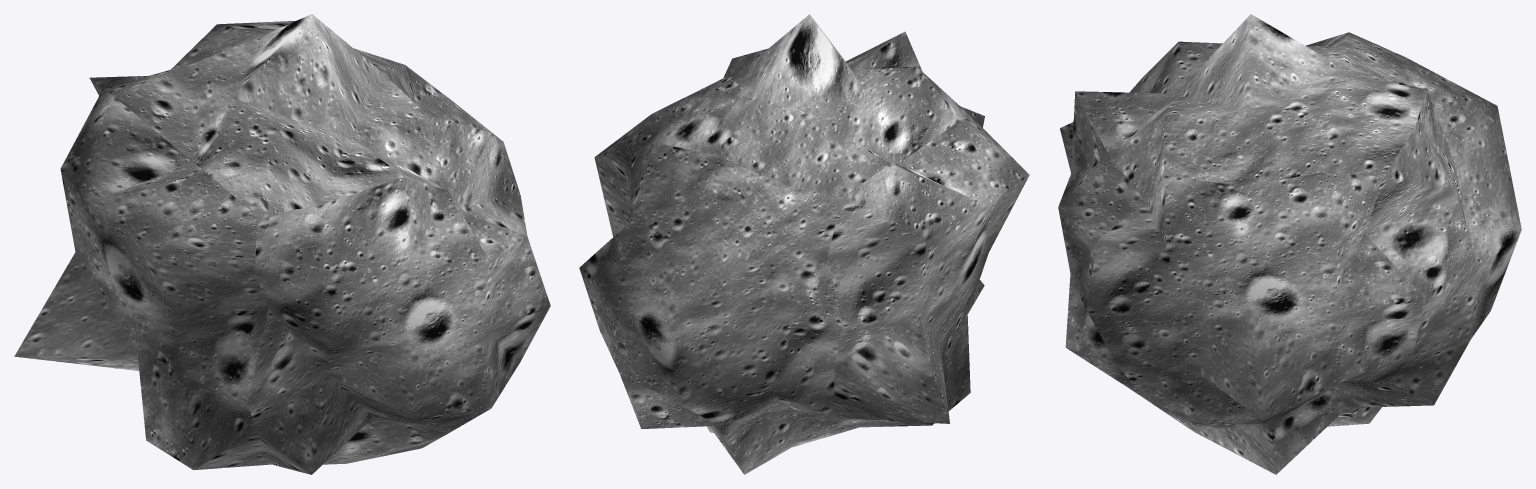
File: ast_lowpoly2.obj
3 views of the same model, side by side, from view 1: azimuth 30°, elevation 25°; view 2: azimuth 150°, elevation 25°; view 3: azimuth 270°, elevation 25° (orthographic). The views are drawn at different scales.
Parts seen in each view (by area): view 1: Cube; view 2: Cube; view 3: Cube.
Part boxes in pixels (bbox=[...]): Cube: bbox=[14, 14, 550, 474]; Cube: bbox=[579, 14, 1029, 474]; Cube: bbox=[1058, 14, 1521, 474].
Bounding box in the file's own units: 2.04 × 2.04 × 2.04.
